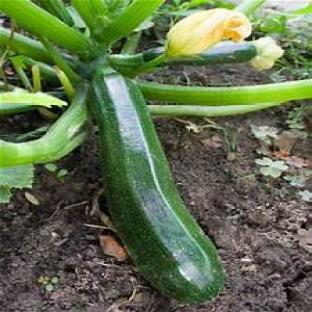Zucchini: (92, 69, 223, 303), (161, 42, 256, 66)
